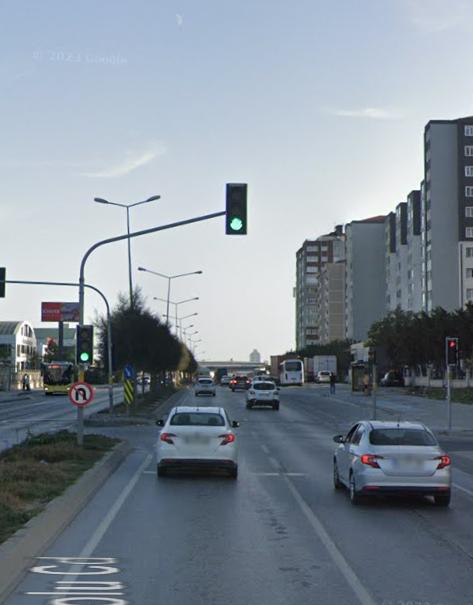greenlight: (226, 183, 247, 233), (76, 324, 92, 363)
